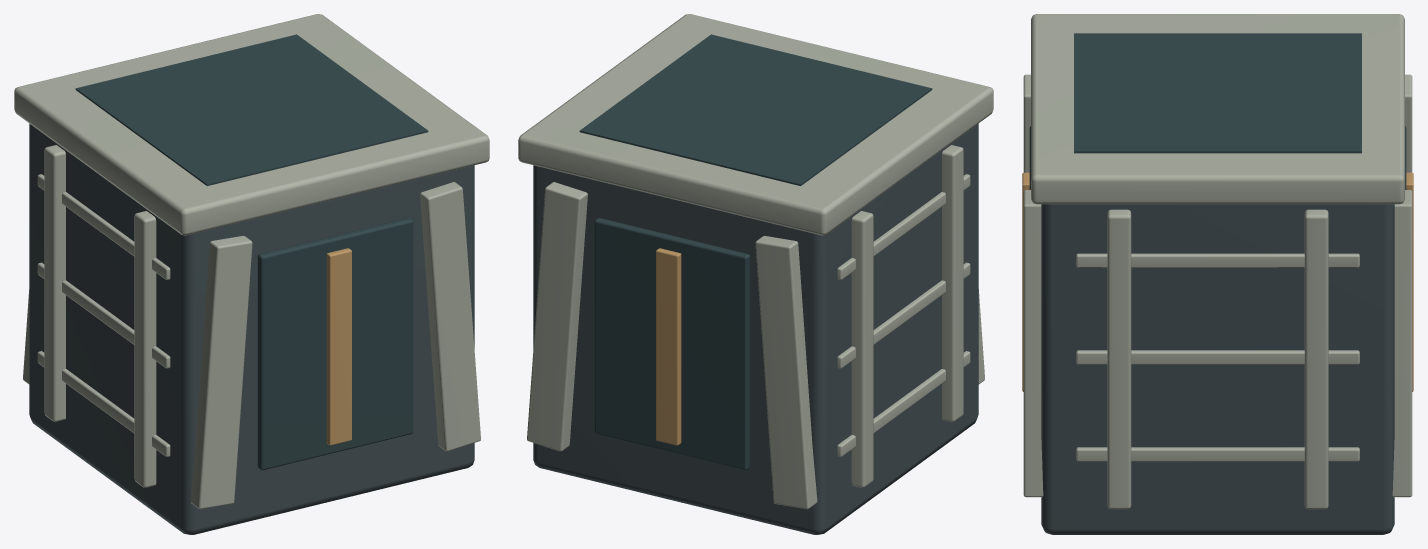
Rendered from gate-top-1.glb.
3 renders of one model, left to right at view 1: azimuth 30°, elevation 25°; view 2: azimuth 150°, elevation 25°; view 3: azimuth 270°, elevation 25°, orthographic. The views are drawn at different scales.
Parts seen in each view (by area): view 1: gate_1, gate_0, gate_2, gate_3; view 2: gate_1, gate_0, gate_2, gate_3; view 3: gate_0, gate_1, gate_2, gate_3.
Boxes of the visible parts, x1,y1,x2,y2 form: gate_1: (14, 14, 489, 509); gate_0: (29, 123, 474, 534); gate_2: (75, 34, 428, 470); gate_3: (326, 248, 351, 445); gate_1: (518, 14, 993, 509); gate_0: (533, 123, 978, 534); gate_2: (579, 34, 932, 470); gate_3: (656, 248, 681, 445); gate_0: (1041, 204, 1394, 534); gate_1: (1023, 14, 1412, 509); gate_2: (1029, 33, 1406, 189); gate_3: (1022, 172, 1413, 391).
Bounding box in the file's own units: 0.974 × 1 × 0.952.
